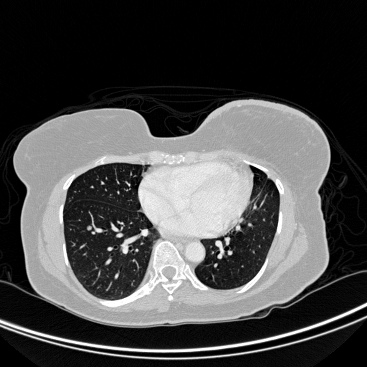nodule: (87, 226, 91, 230)
